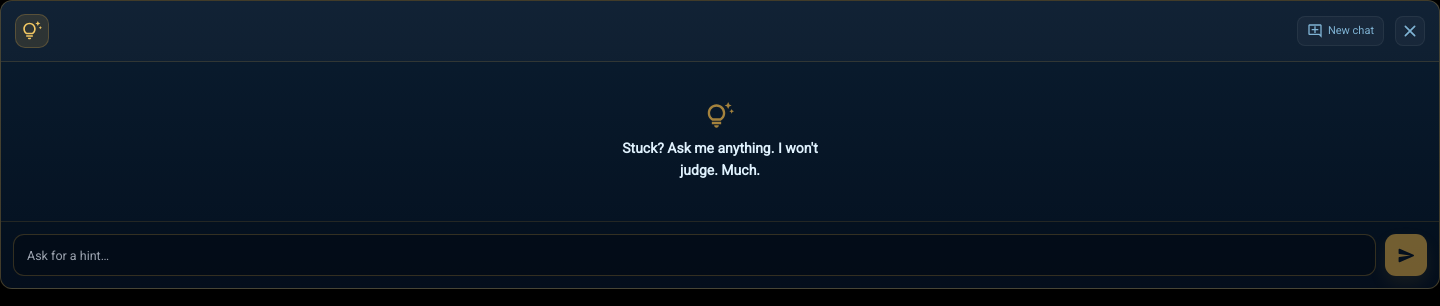
Scenario: HintPanel Component › New chat resets the conversation without closing the panel
Step 1. Type "old question" into the field with test id "hint-input" → coordinates (694, 255), box [13, 234, 1376, 276]
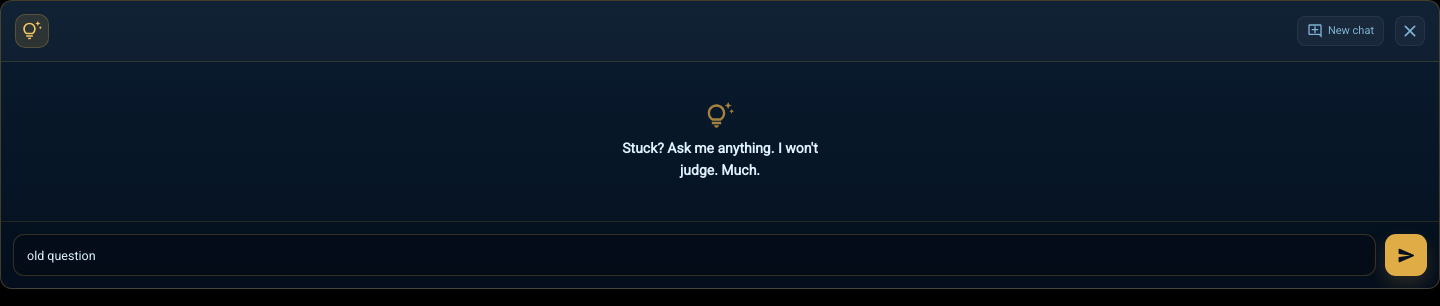
Step 2. Click the button with test id "hint-send" → coordinates (1406, 255), box [1385, 234, 1427, 276]
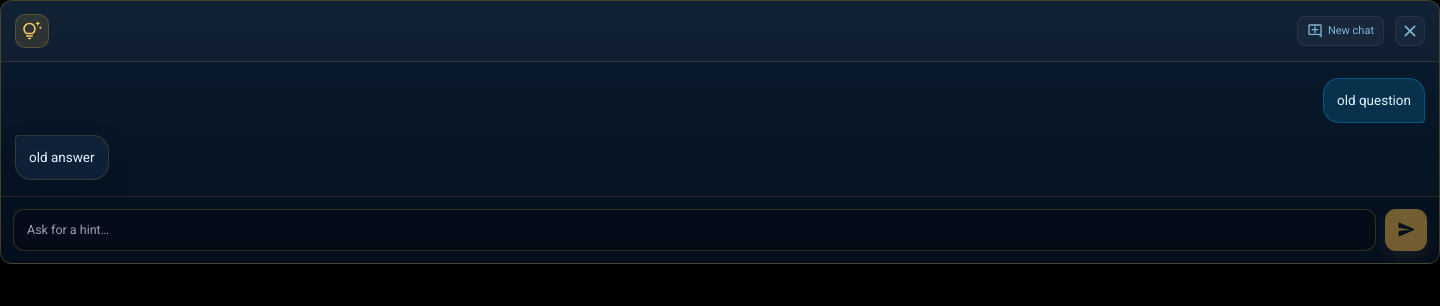
Expected: the text "old answer" is shown, [15, 135, 109, 180]
Step 3. Click the button "New chat" → coordinates (1340, 31), box [1297, 16, 1384, 46]
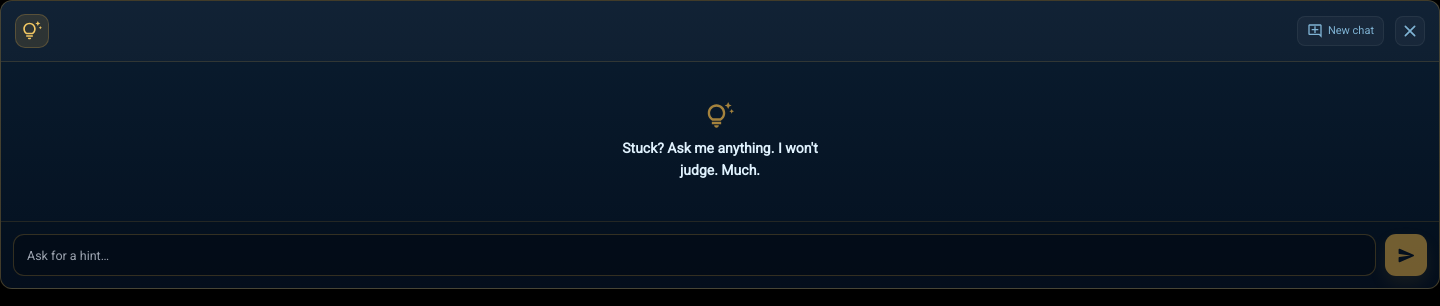
Expected: the text "Stuck? Ask me anything. I won't judge. Much." is shown, [617, 138, 823, 181]
Expected: the text "old answer" is gone
